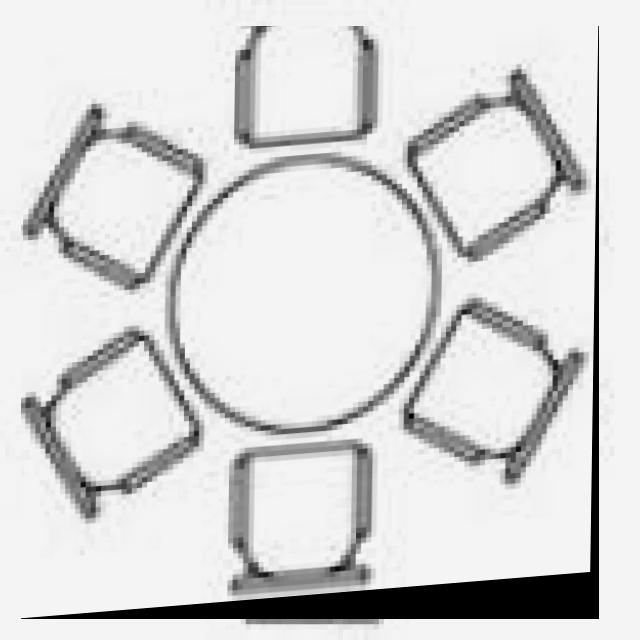table: (21, 26, 599, 619)
